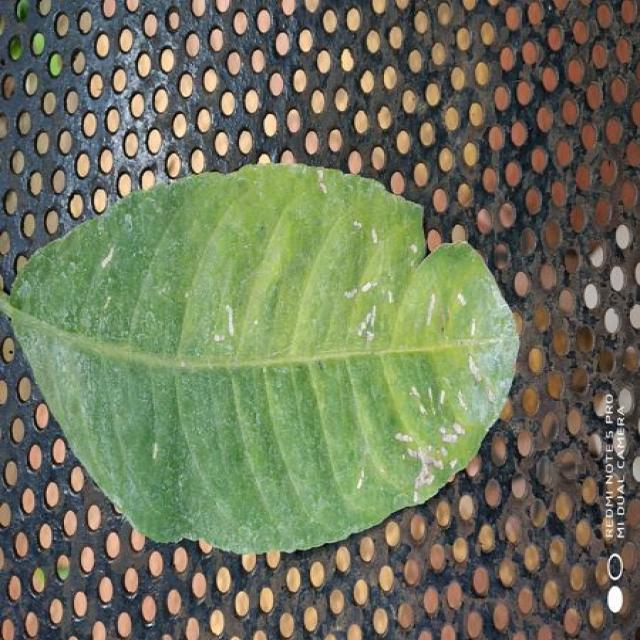badipala: (3, 165, 518, 553)
defectedbadipala: (93, 165, 478, 368), (342, 244, 518, 528)
